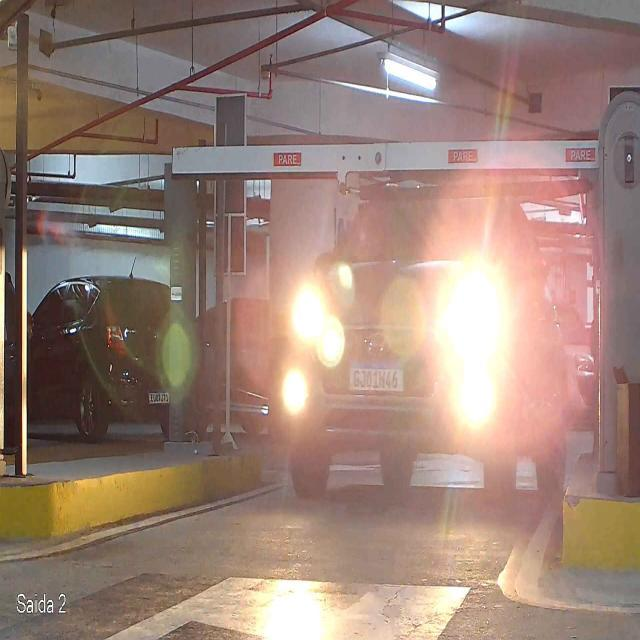mercosul_plate: (346, 359, 406, 394)
